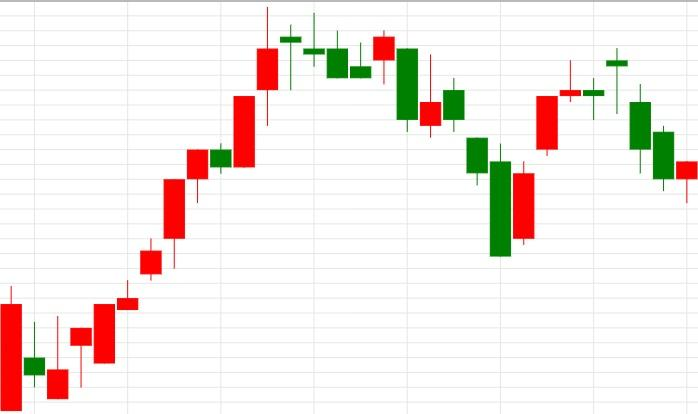three_white_soldiers_rise: (443, 59, 582, 258)
